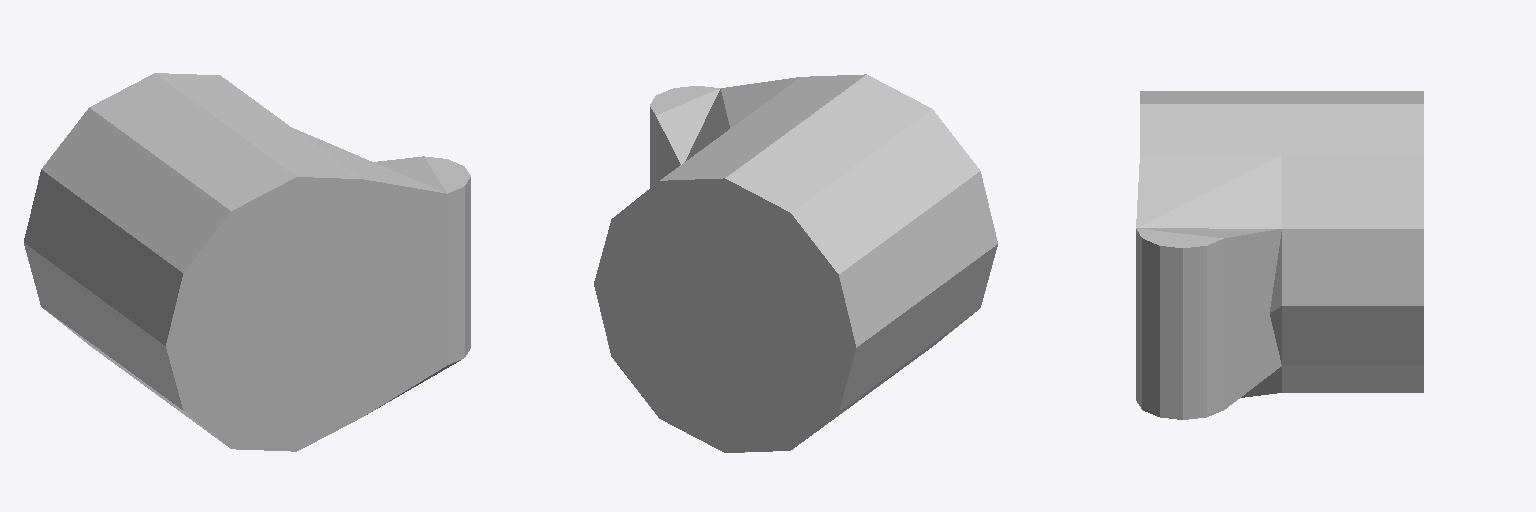
File: head_link1.obj
3 views of the same model, side by side, from view 1: azimuth 30°, elevation 25°; view 2: azimuth 150°, elevation 25°; view 3: azimuth 270°, elevation 25° (orthographic).
Visible parts, largest first — view 1: head_link1_Cylinder.062; view 2: head_link1_Cylinder.062; view 3: head_link1_Cylinder.062.
Part boxes in pixels (x1,y1,x2,y2): head_link1_Cylinder.062: (24,73,470,451); head_link1_Cylinder.062: (594,74,997,452); head_link1_Cylinder.062: (1136,91,1423,419).
Size of the model in its own units: 0.0782 by 0.064 by 0.0608.